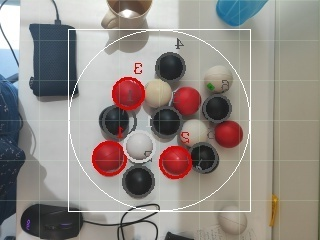Pelota blanca: (118, 205, 159, 240), (124, 129, 155, 162), (178, 117, 211, 147), (144, 77, 173, 108), (204, 65, 235, 94), (218, 209, 249, 237), (105, 0, 153, 18)
Pelota negra: (20, 203, 85, 240), (216, 0, 269, 27), (121, 165, 155, 201), (98, 105, 131, 141), (189, 141, 221, 174), (150, 107, 181, 141), (155, 51, 187, 82), (201, 93, 233, 120), (105, 0, 153, 18), (164, 231, 195, 240)
Pelota roja: (91, 139, 129, 177), (111, 75, 147, 111), (158, 145, 193, 180), (171, 85, 203, 117), (214, 119, 245, 148), (134, 61, 145, 75)
